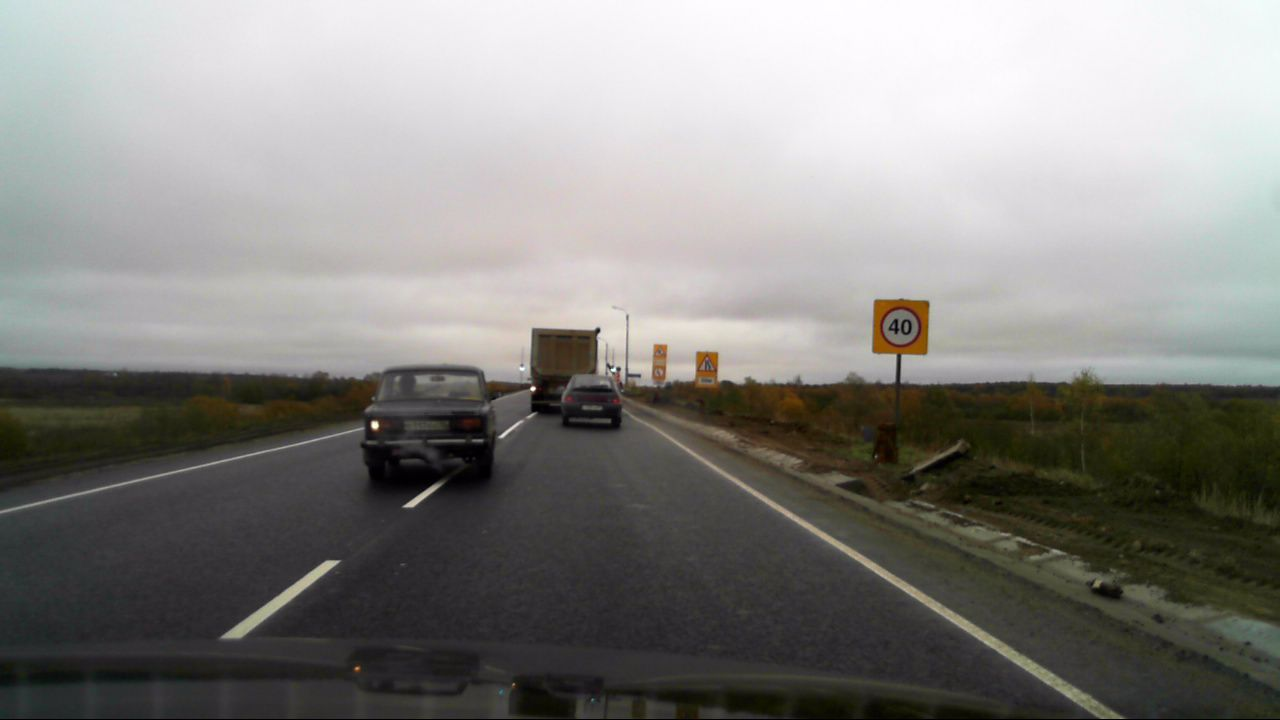speed_warning_40: (874, 299, 928, 355)
